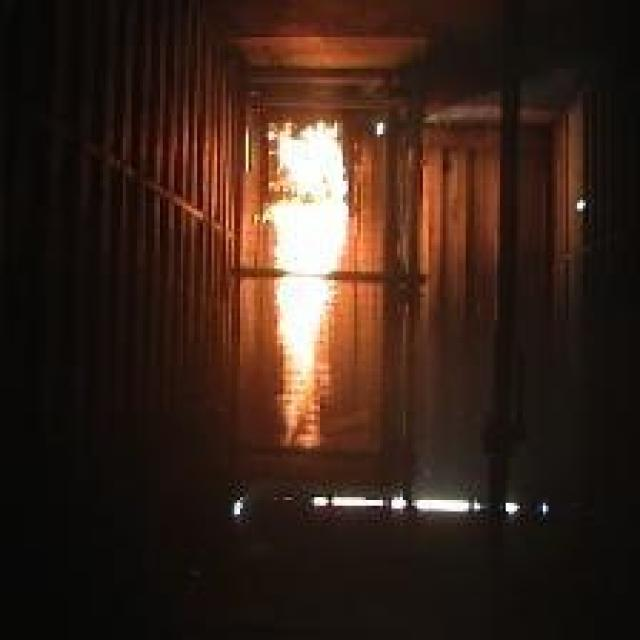fire: (254, 117, 354, 449)
